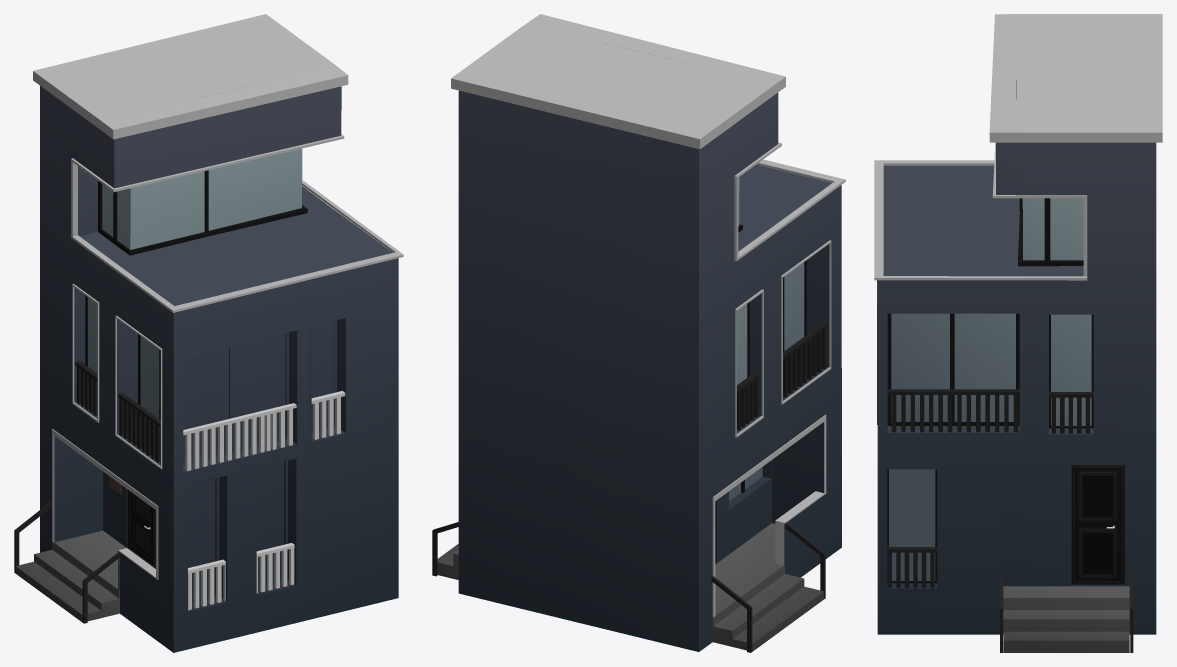
The model's file is Town House Black.fbx.
The picture shows the model from 3 angles, left to right: view 1: azimuth 30°, elevation 25°; view 2: azimuth 150°, elevation 25°; view 3: azimuth 270°, elevation 25°; orthographic projection. The views are drawn at different scales.
Parts seen in each view (by area): view 1: Cube.145; view 2: Cube.145; view 3: Cube.145.
Boxes of the visible parts, x1,y1,x2,y2 form: Cube.145: (14,14,403,652); Cube.145: (432,14,845,652); Cube.145: (874,14,1162,652).
Bounding box in the file's own units: 1565 × 2425 × 1258.
